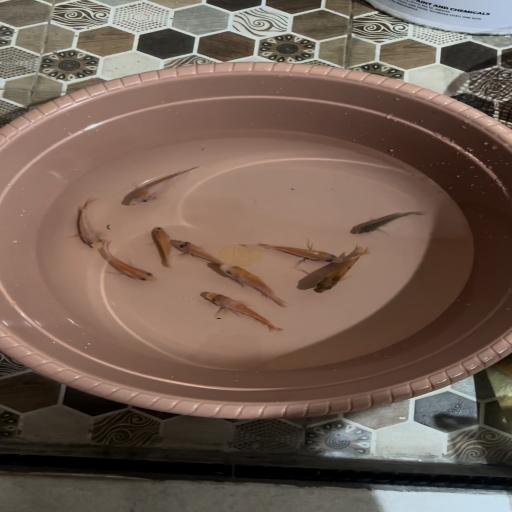nila: (123, 159, 205, 213), (194, 291, 288, 338), (312, 243, 381, 299), (220, 258, 294, 308), (246, 238, 342, 271), (351, 200, 425, 238), (93, 242, 158, 285), (71, 196, 112, 248), (172, 236, 232, 268), (146, 225, 182, 270)
